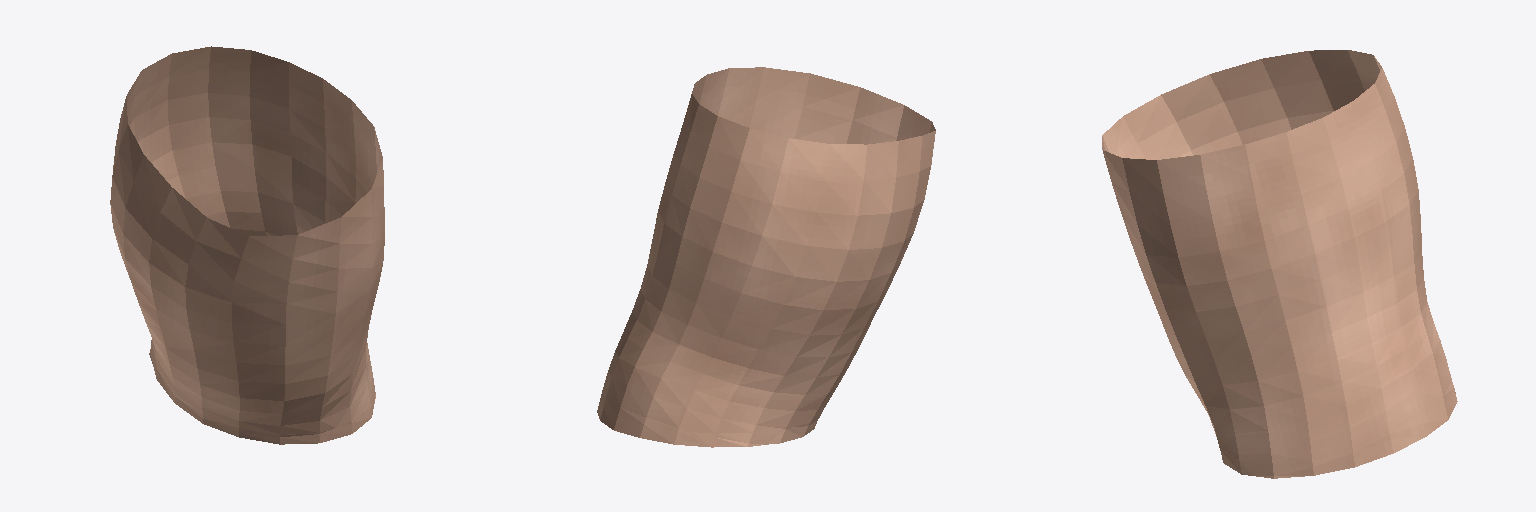
The picture shows the model from 3 angles: view 1: azimuth 30°, elevation 25°; view 2: azimuth 150°, elevation 25°; view 3: azimuth 270°, elevation 25°; orthographic projection.
Parts seen in each view (by area): view 1: bicepIZQ001; view 2: bicepIZQ001; view 3: bicepIZQ001.
Boxes of the visible parts, <box> form: bicepIZQ001: <box>110,46,384,444</box>; bicepIZQ001: <box>597,67,935,447</box>; bicepIZQ001: <box>1102,50,1457,478</box>.
Size of the model in its own units: 0.0784 by 0.1028 by 0.0951.
1 materials, 1 textured.